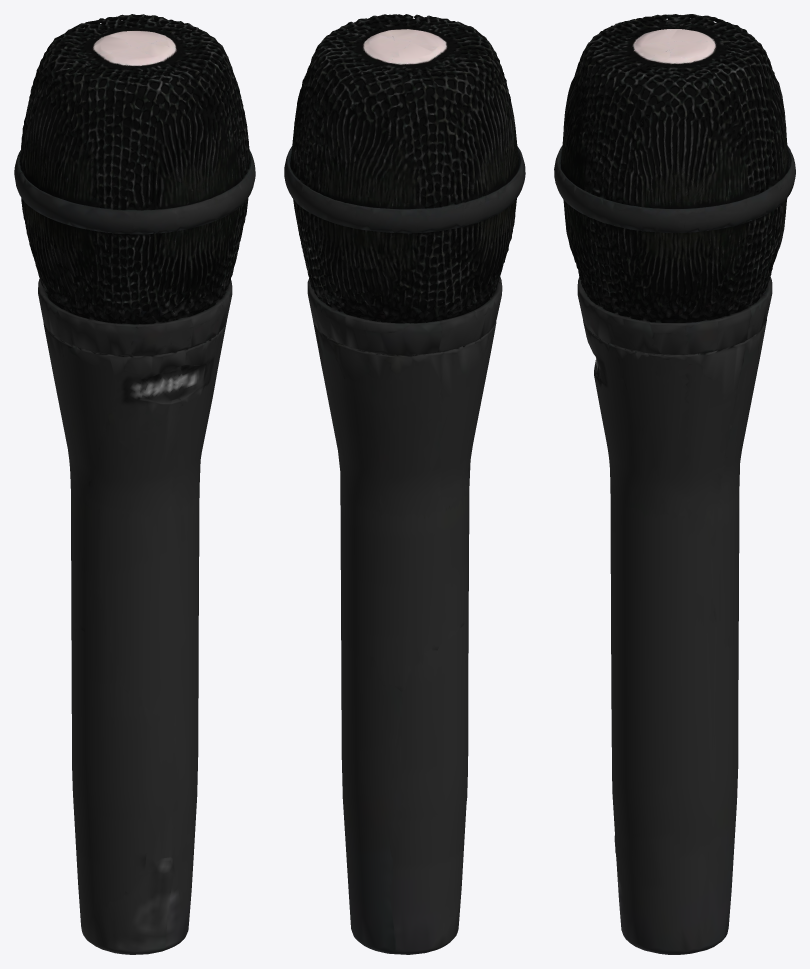
File: Shure KSM9.glb
3 renders of one model, left to right at view 1: azimuth 30°, elevation 25°; view 2: azimuth 150°, elevation 25°; view 3: azimuth 270°, elevation 25°, orthographic.
Visible parts, largest first — view 1: geometry_0; view 2: geometry_0; view 3: geometry_0.
Part boxes in pixels (bbox=[...]): geometry_0: bbox=[14, 14, 255, 954]; geometry_0: bbox=[284, 14, 525, 954]; geometry_0: bbox=[554, 14, 795, 954].
Size of the model in its own units: 0.0469 by 0.191 by 0.0469.
Materials: 1 (1 with a texture image).
